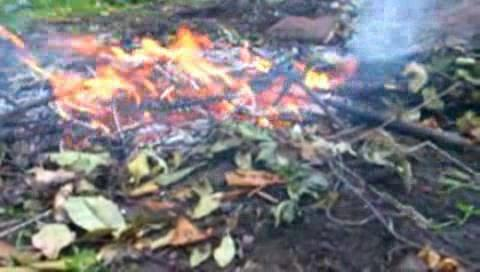fire: (62, 33, 256, 120)
smoke: (355, 8, 423, 75)
